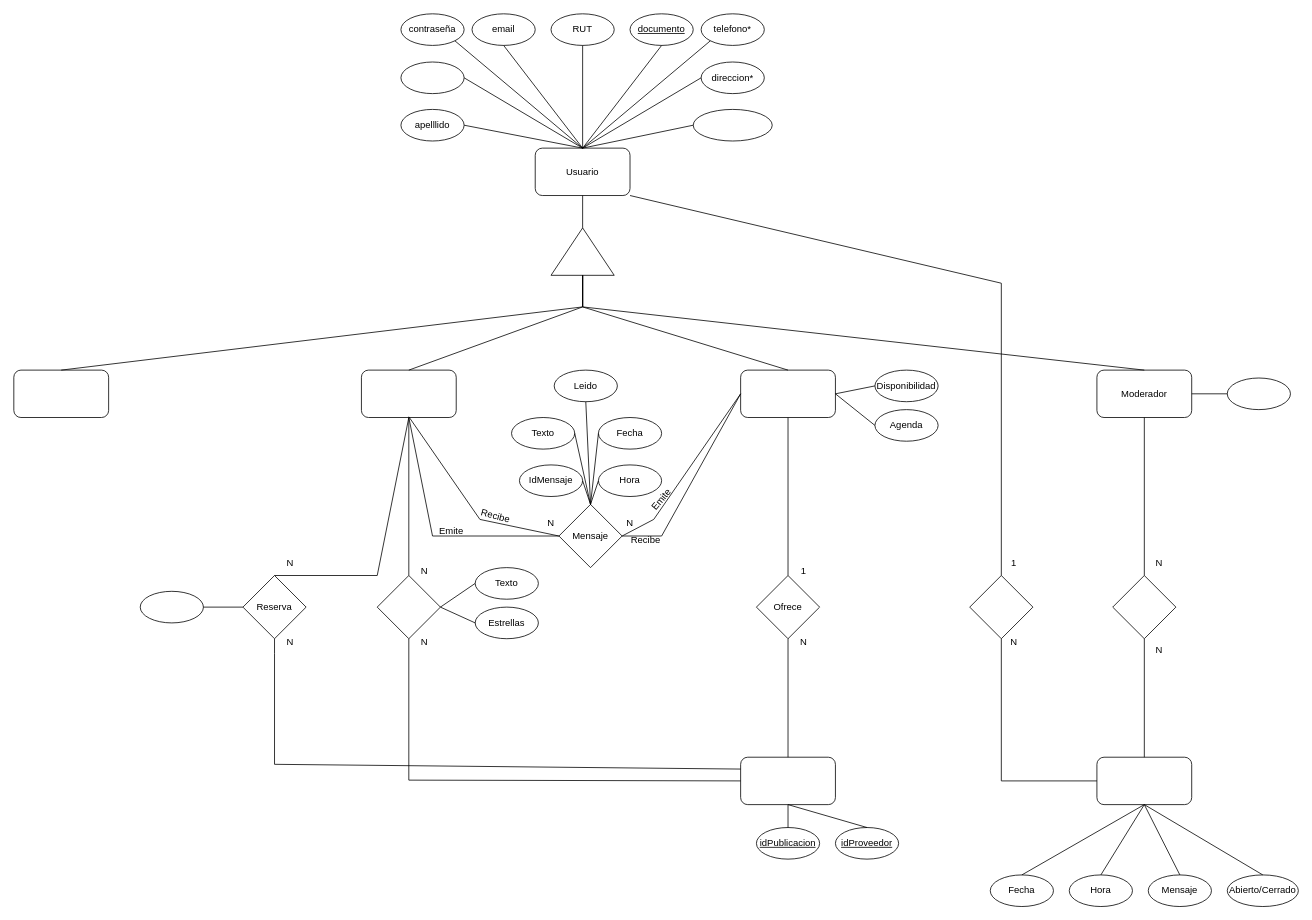
Image size: 1312x920. Some labels were removed from this diagram. Here are the shapes that lost their labels. From the top down, the centre of each, then its label:
the point at 432,77: nombre
the point at 732,125: fechaNacimiento
the point at 61,393: Administrador
the point at 408,393: Cliente
the point at 787,393: Proveedor
the point at 1258,393: Permisos
the point at 171,607: fechaReserva
the point at 408,607: Reseña
the point at 1001,607: Crea
the point at 1144,607: Atiende
the point at 787,780: Publicacion
the point at 1144,780: Ticket
